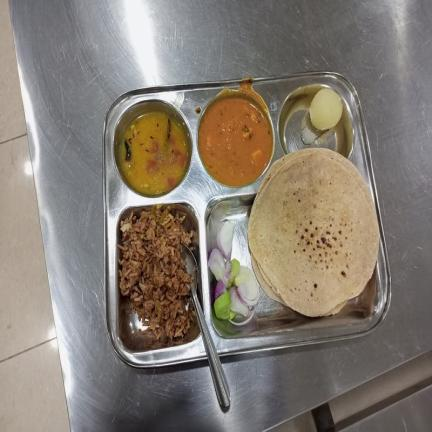Chana Dal: (119, 110, 192, 196)
Chhaina: (309, 88, 344, 130)
Fried Rice: (119, 203, 196, 340)
Paneer: (199, 96, 273, 185)
Plate: (103, 70, 392, 368)
Roti: (247, 148, 381, 318)
Salad: (208, 220, 262, 327)
